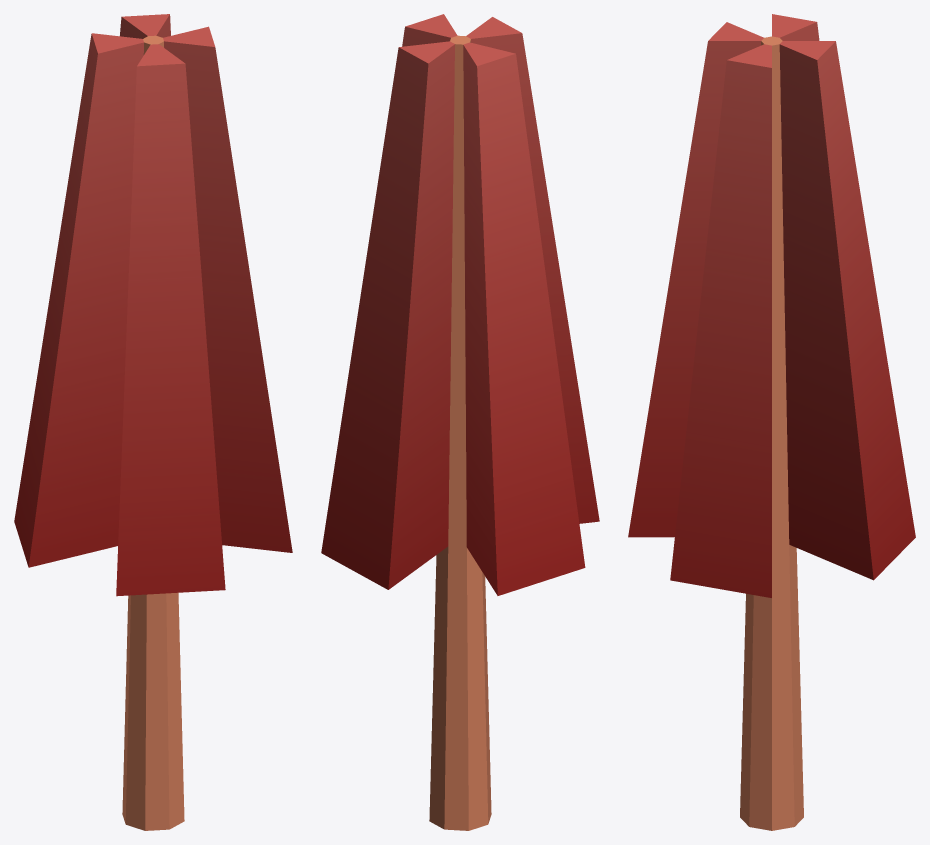
File: Tree_28_gradient_red.fbx
3 views of the same model, side by side, from view 1: azimuth 30°, elevation 25°; view 2: azimuth 150°, elevation 25°; view 3: azimuth 270°, elevation 25° (orthographic).
Visible parts, largest first — view 1: Tree_28_gradient_red; view 2: Tree_28_gradient_red; view 3: Tree_28_gradient_red.
Boxes of the visible parts, <box> form: Tree_28_gradient_red: <box>14,14,292,830</box>; Tree_28_gradient_red: <box>321,14,599,830</box>; Tree_28_gradient_red: <box>628,14,915,830</box>.
Bounding box in the file's own units: 98.97 × 294 × 98.97.
